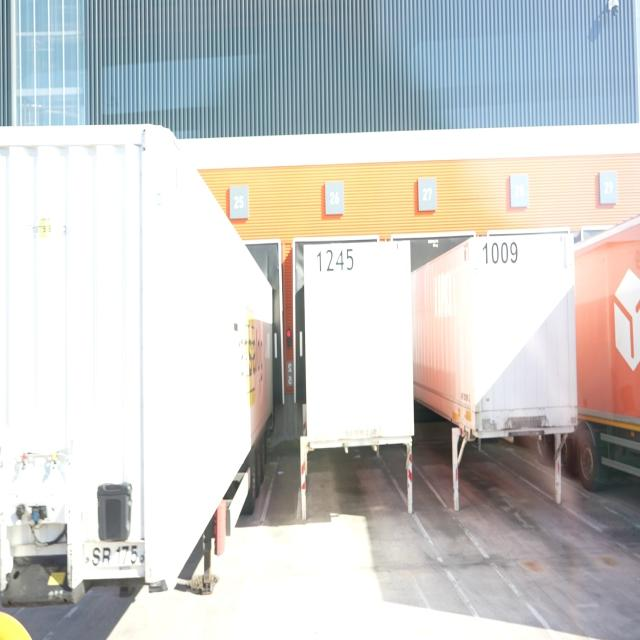Code: (316, 245, 356, 278), (481, 238, 522, 270)
